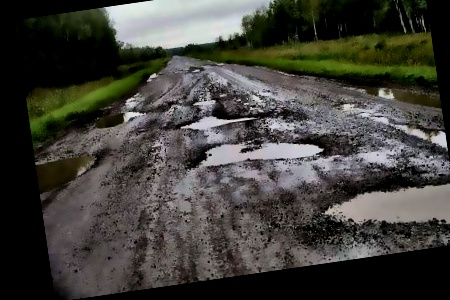pothole: (318, 173, 450, 245), (183, 126, 328, 175), (35, 148, 104, 192), (177, 107, 260, 134), (92, 104, 148, 131), (191, 96, 218, 108), (146, 70, 160, 82)
